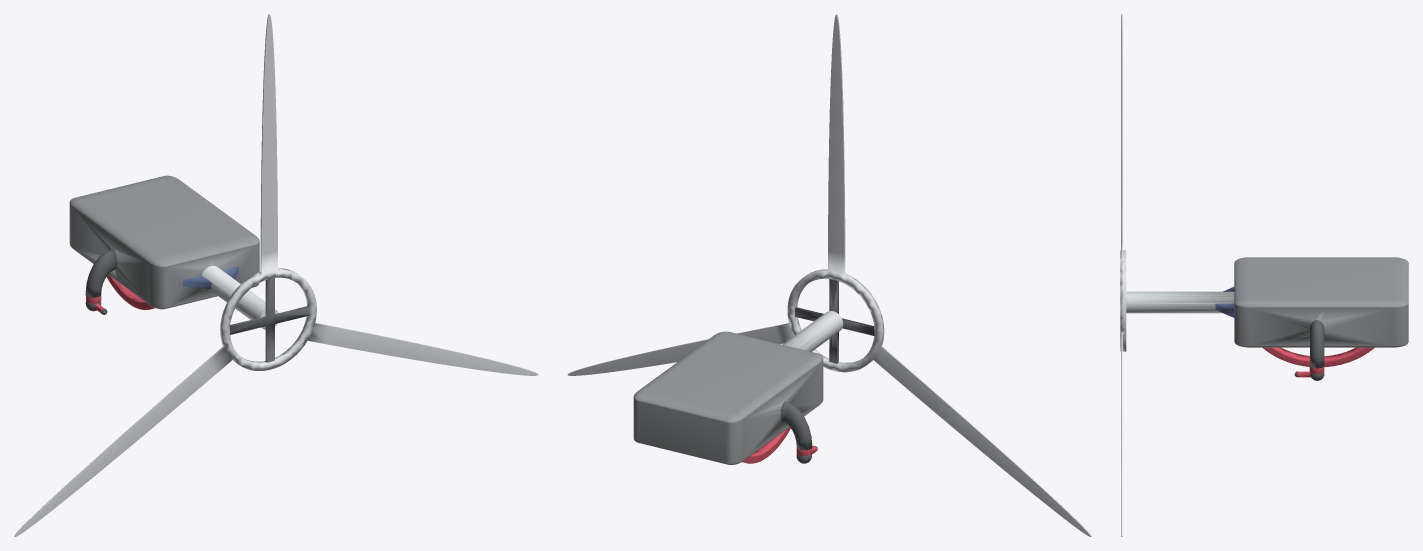
Rendered from drone.glb.
3 views of the same model, side by side, from view 1: azimuth 30°, elevation 25°; view 2: azimuth 150°, elevation 25°; view 3: azimuth 270°, elevation 25° (orthographic). The views are drawn at different scales.
Parts seen in each view (by area): view 1: Model; view 2: Model; view 3: Model.
Part boxes in pixels (<box>): Model: <box>14,14,538,536</box>; Model: <box>567,14,1091,536</box>; Model: <box>1120,14,1408,536</box>.
Bounding box in the file's own units: 78.2 × 65.71 × 39.72.
